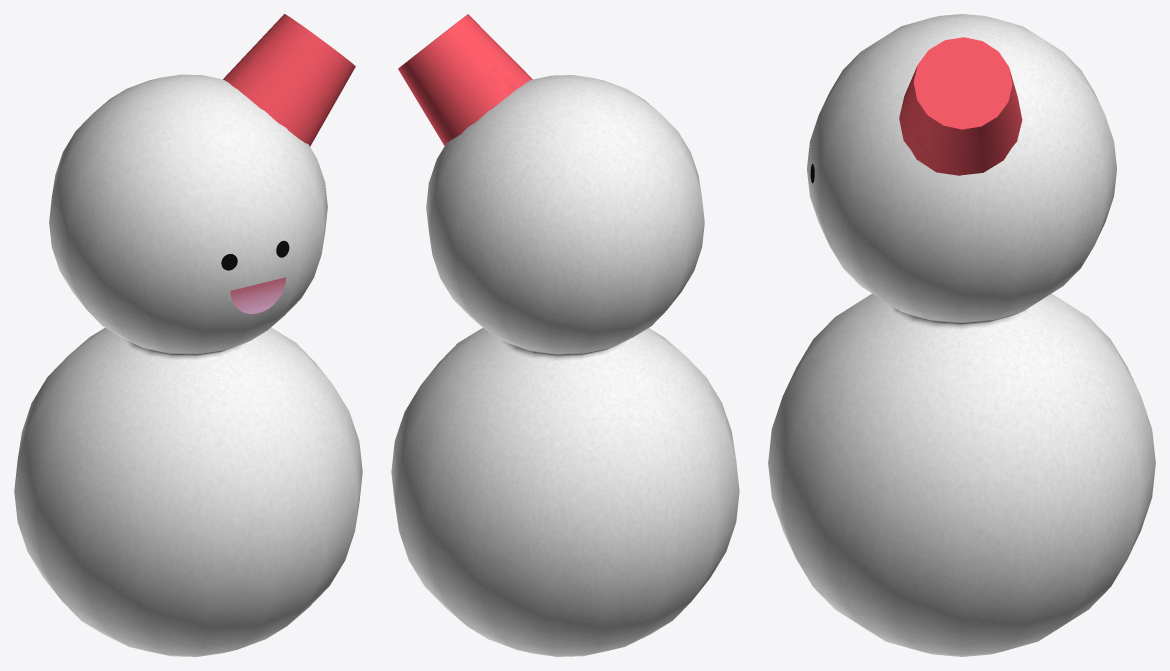
The model's file is Snowman light.fbx.
3 renders of one model, left to right at view 1: azimuth 30°, elevation 25°; view 2: azimuth 150°, elevation 25°; view 3: azimuth 270°, elevation 25°, orthographic. The views are drawn at different scales.
Visible parts, largest first — view 1: Circle; view 2: Circle; view 3: Circle.
Boxes of the visible parts, x1,y1,x2,y2 form: Circle: (14,14,362,656); Circle: (391,14,739,656); Circle: (768,14,1155,656).
Size of the model in its own units: 12.92 by 23.59 by 12.6.
2 materials, 2 textured.
